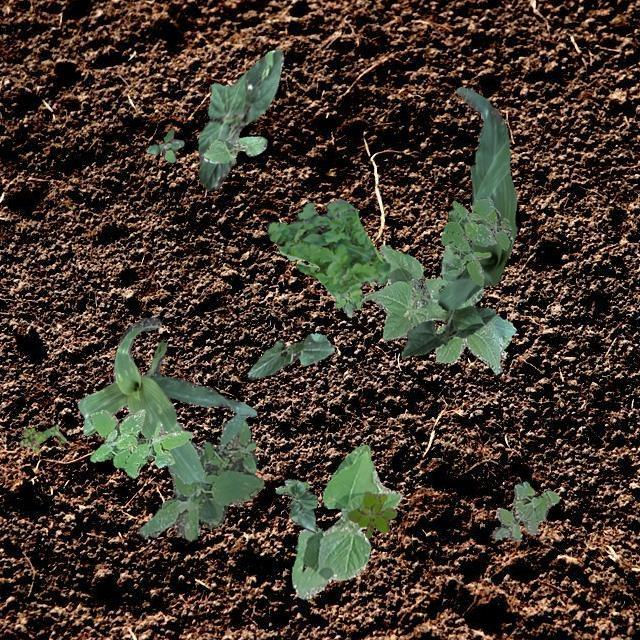crop: (77, 316, 256, 482), (370, 244, 516, 374), (436, 86, 516, 310), (291, 443, 401, 598), (196, 48, 282, 188), (400, 304, 494, 356), (246, 332, 334, 378), (274, 478, 316, 532), (202, 136, 266, 162)
weed: (138, 412, 262, 540), (266, 198, 390, 300), (88, 408, 192, 476), (440, 194, 496, 284), (490, 480, 558, 540), (346, 489, 396, 536), (472, 204, 512, 250), (334, 280, 376, 316), (146, 128, 182, 162), (19, 424, 64, 451)
